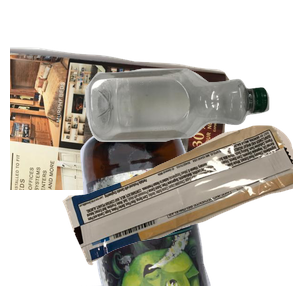glass: (78, 120, 281, 300)
paper: (10, 44, 232, 224)
plastic: (83, 66, 300, 201)
trash: (60, 123, 300, 300)
